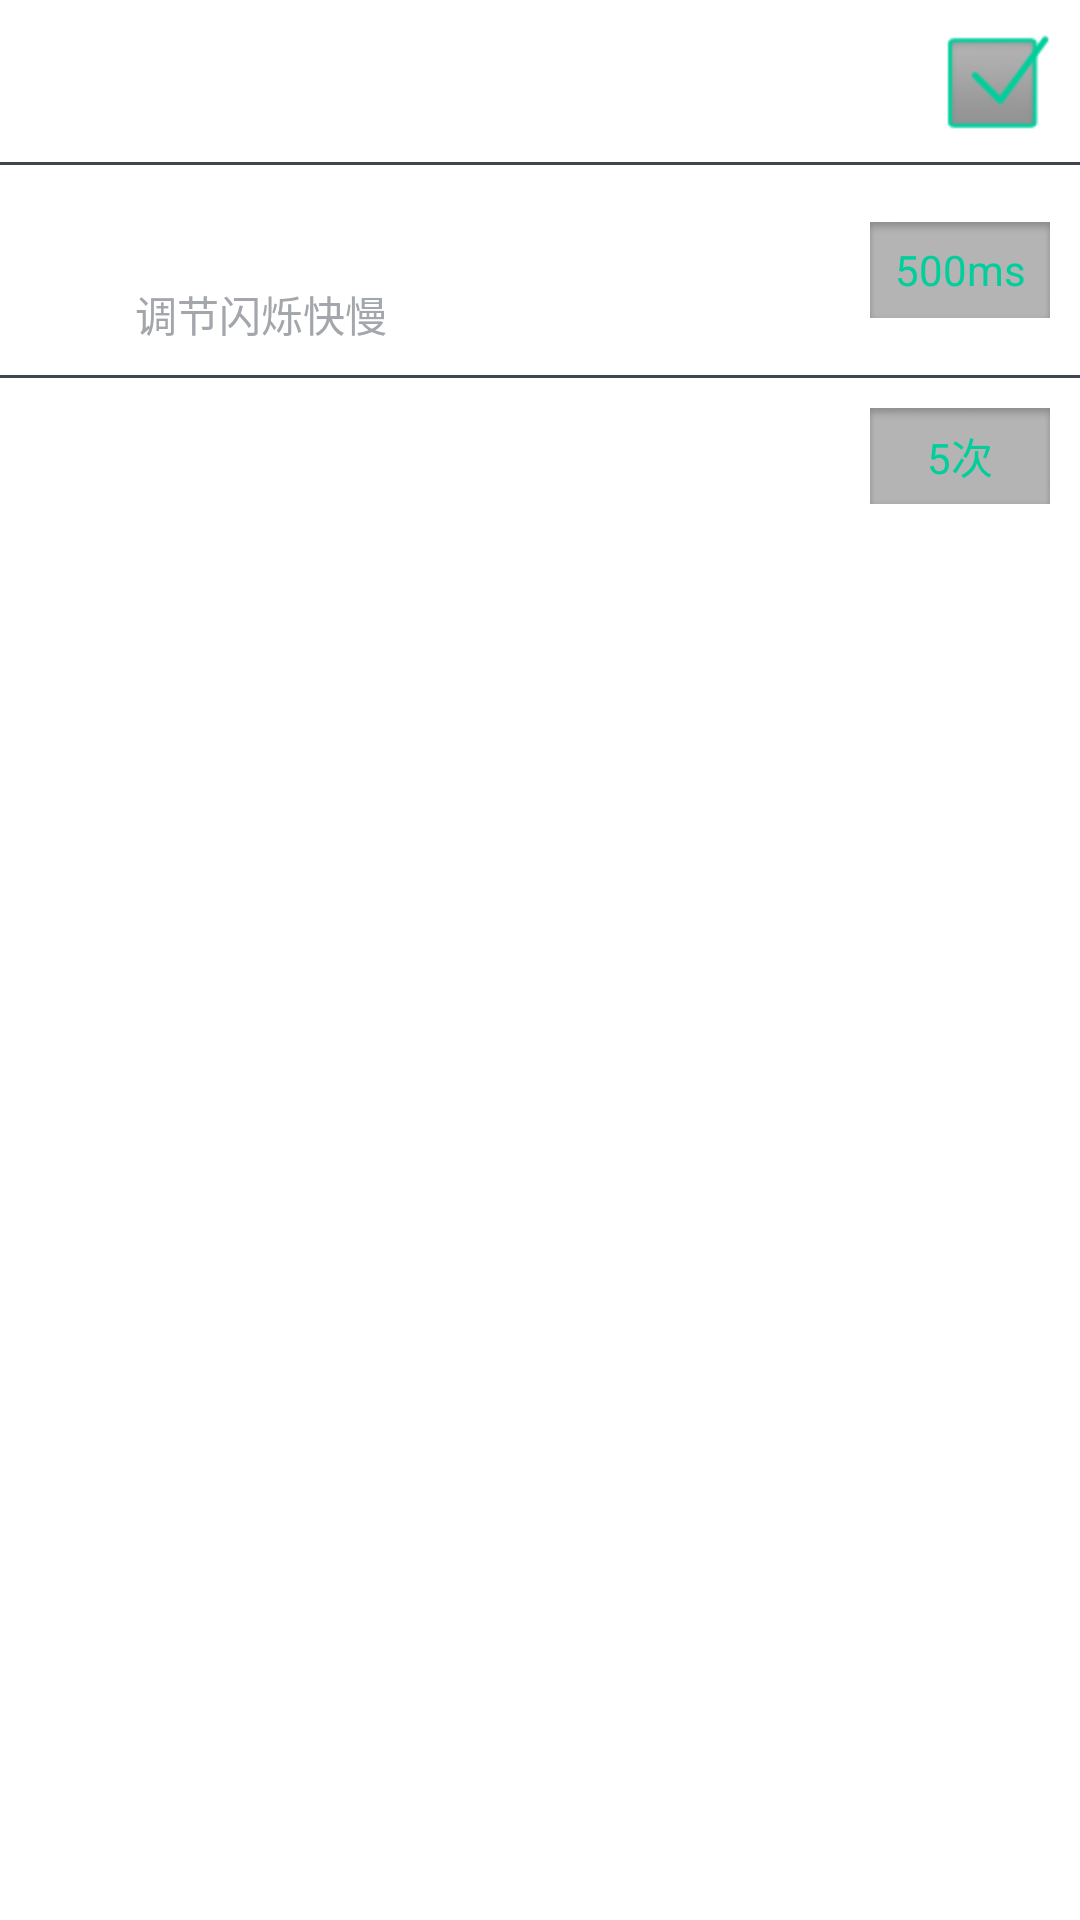

Where icons sit on this 1080w x 1920h app screen, as BBox(x1, y1, x2, y2):
checkbox: BBox(947, 35, 1050, 129)
